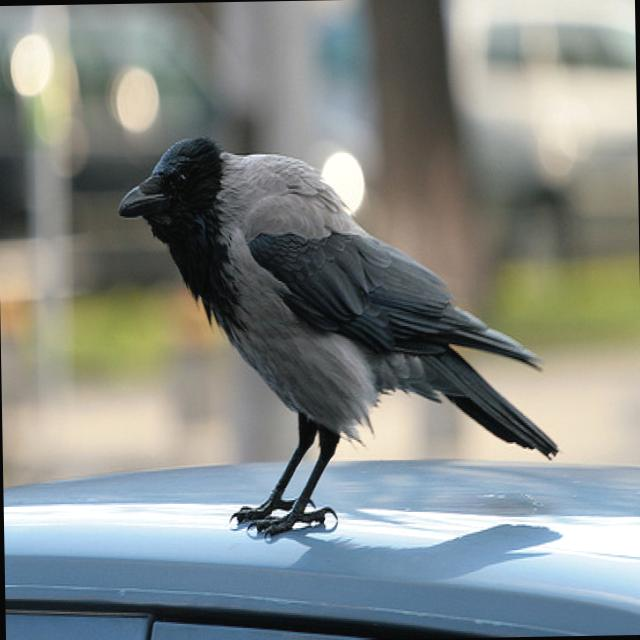Vehicle: (2, 453, 640, 640), (440, 0, 639, 261)
